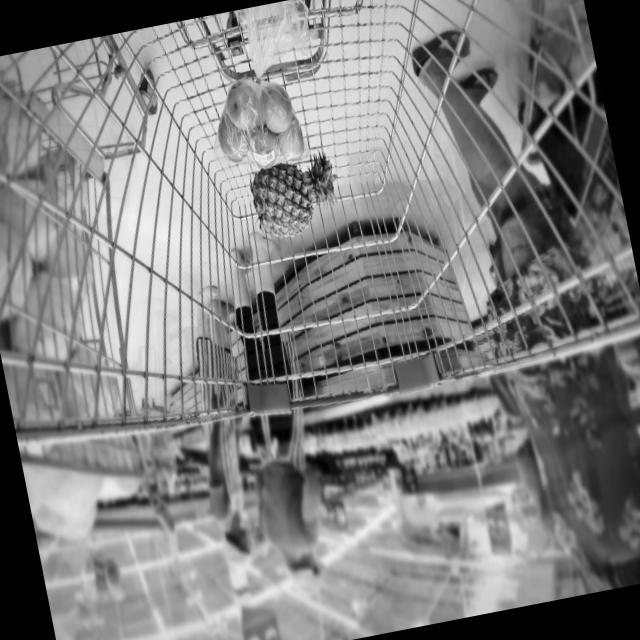dua: (243, 150, 348, 246)
tao: (206, 71, 317, 178)
